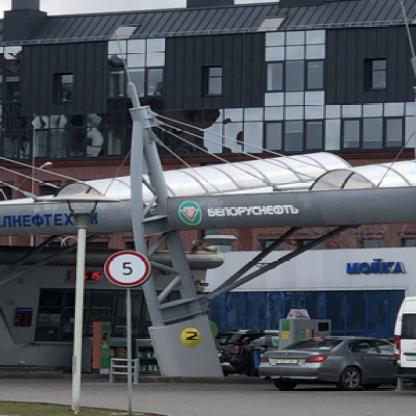speedlimit: (102, 249, 148, 286)
